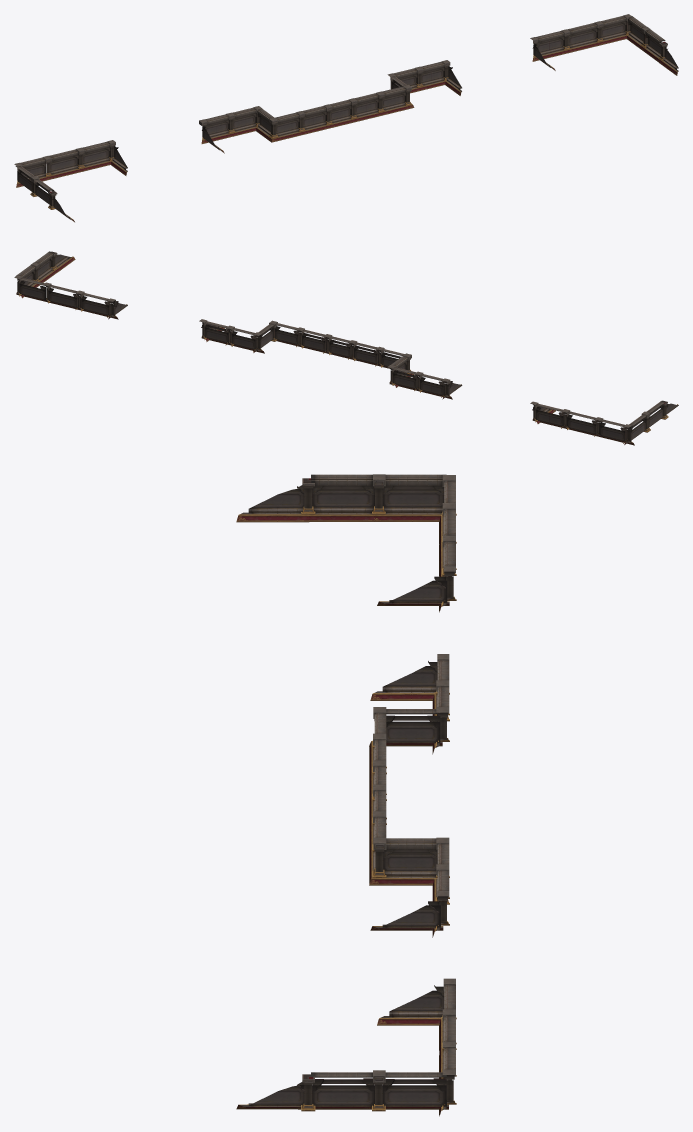
The picture shows the model from 3 angles, top to bottom: view 1: azimuth 30°, elevation 25°; view 2: azimuth 150°, elevation 25°; view 3: azimuth 270°, elevation 25°; orthographic projection. The views are drawn at different scales.
Visible parts, largest first — view 1: Object033; view 2: Object033; view 3: Object033.
Boxes of the visible parts, x1,y1,x2,y2 form: Object033: [14, 14, 678, 222]; Object033: [14, 251, 678, 445]; Object033: [236, 474, 456, 1116].
Bounding box in the file's own units: 2964 × 93.4 × 457.
Materials: 1 (1 with a texture image).
